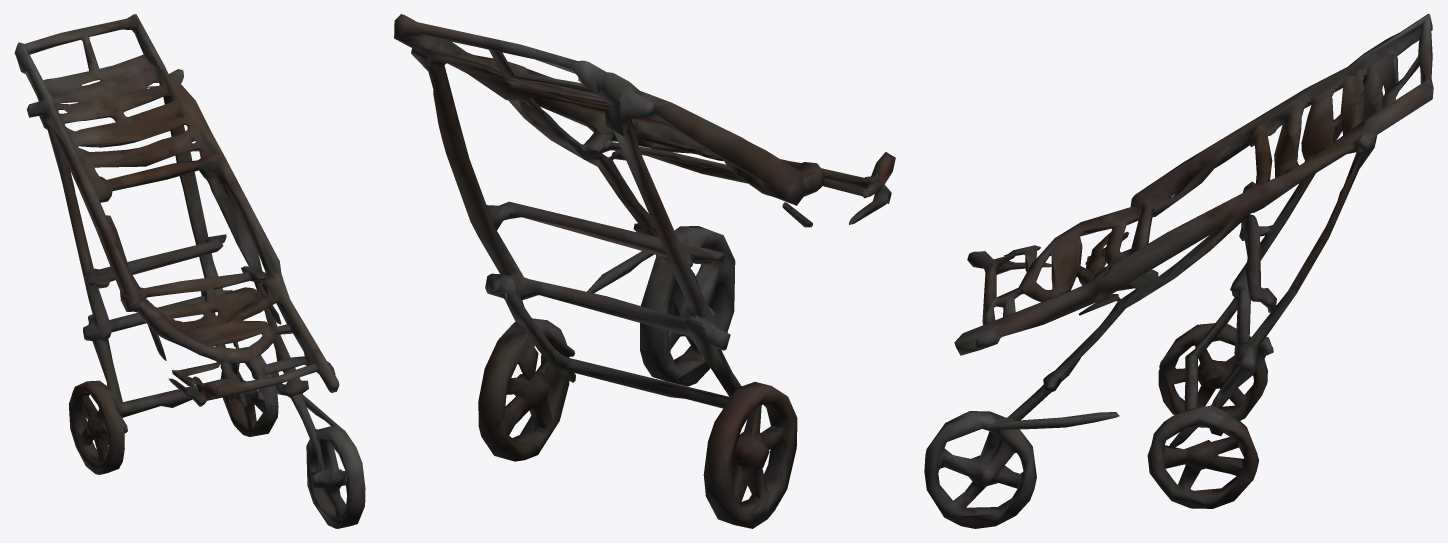
Rendered from chipped-iron-gurney-v002.glb.
3 renders of one model, left to right at view 1: azimuth 30°, elevation 25°; view 2: azimuth 150°, elevation 25°; view 3: azimuth 270°, elevation 25°, orthographic. The views are drawn at different scales.
Parts seen in each view (by area): view 1: chipped-iron-gurney; view 2: chipped-iron-gurney; view 3: chipped-iron-gurney.
Part boxes in pixels (x1,y1,x2,y2): chipped-iron-gurney: [14, 14, 365, 528]; chipped-iron-gurney: [394, 14, 895, 528]; chipped-iron-gurney: [924, 14, 1433, 528].
Size of the model in its own units: 0.3859 by 0.8381 by 0.8805.
1 material, 1 textured.
